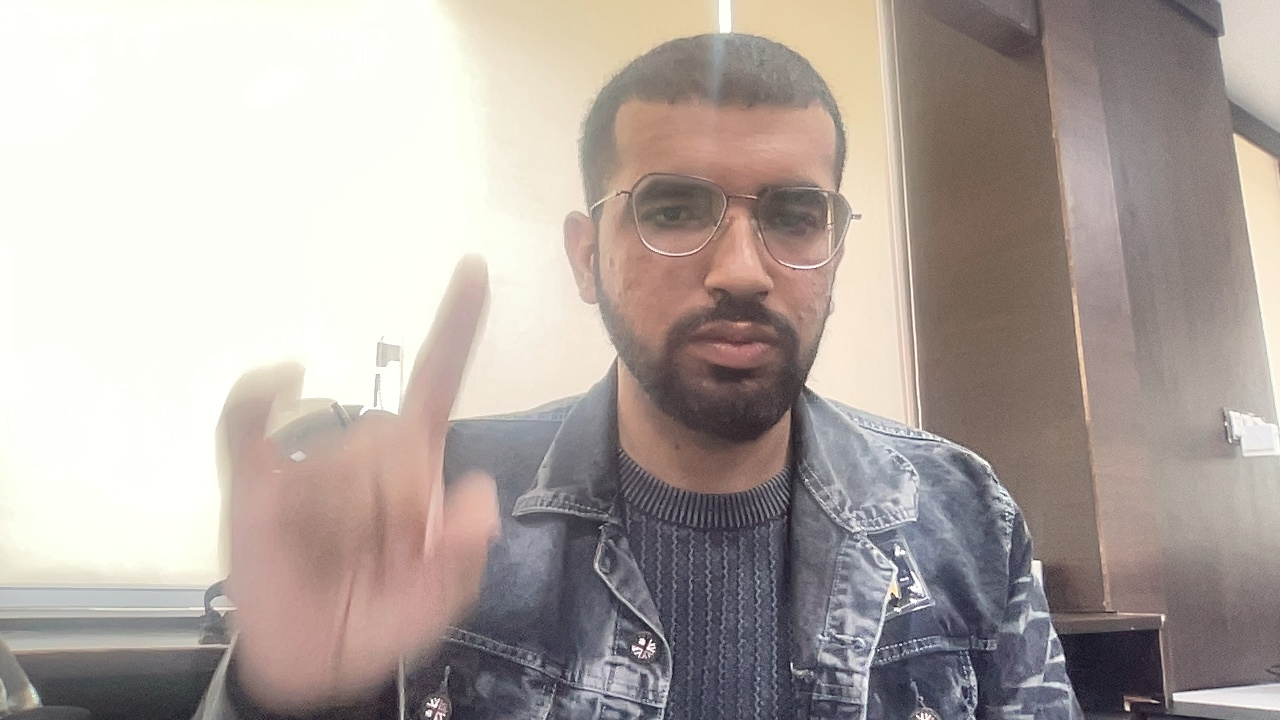I Love You: (144, 285, 587, 690)
